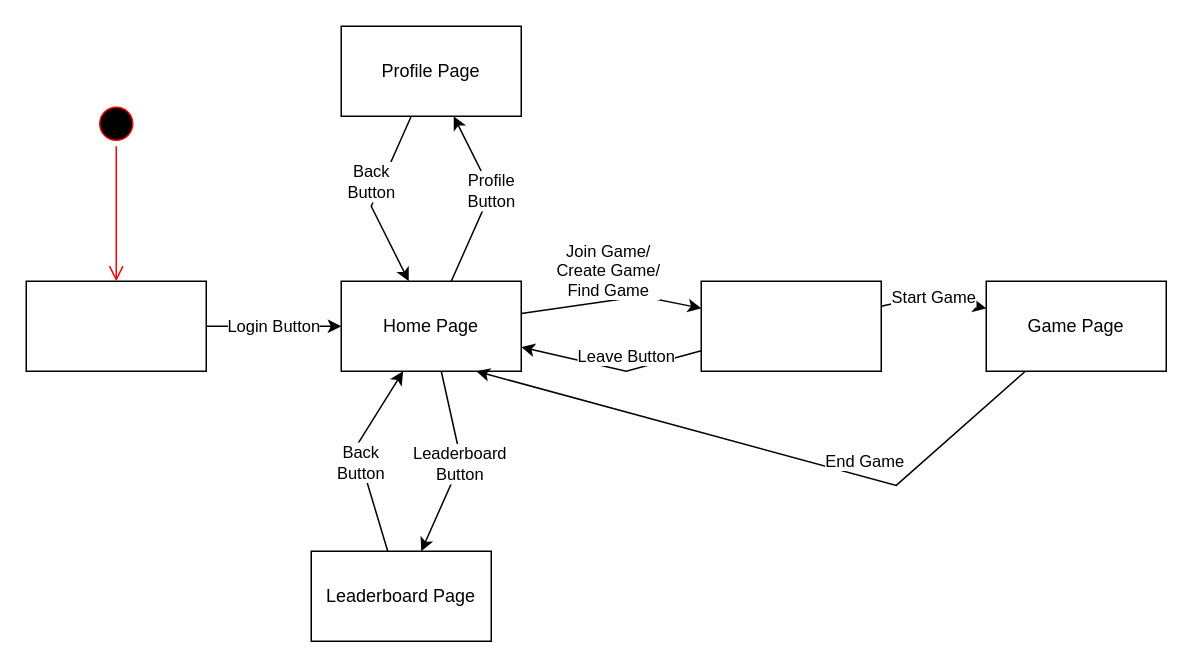
Image size: 1193x668. Some labels were removed from this diagram. Each missing label, with the box of its shape:
Lobby Page: (700, 280, 881, 371)
Login Page: (25, 280, 206, 371)
